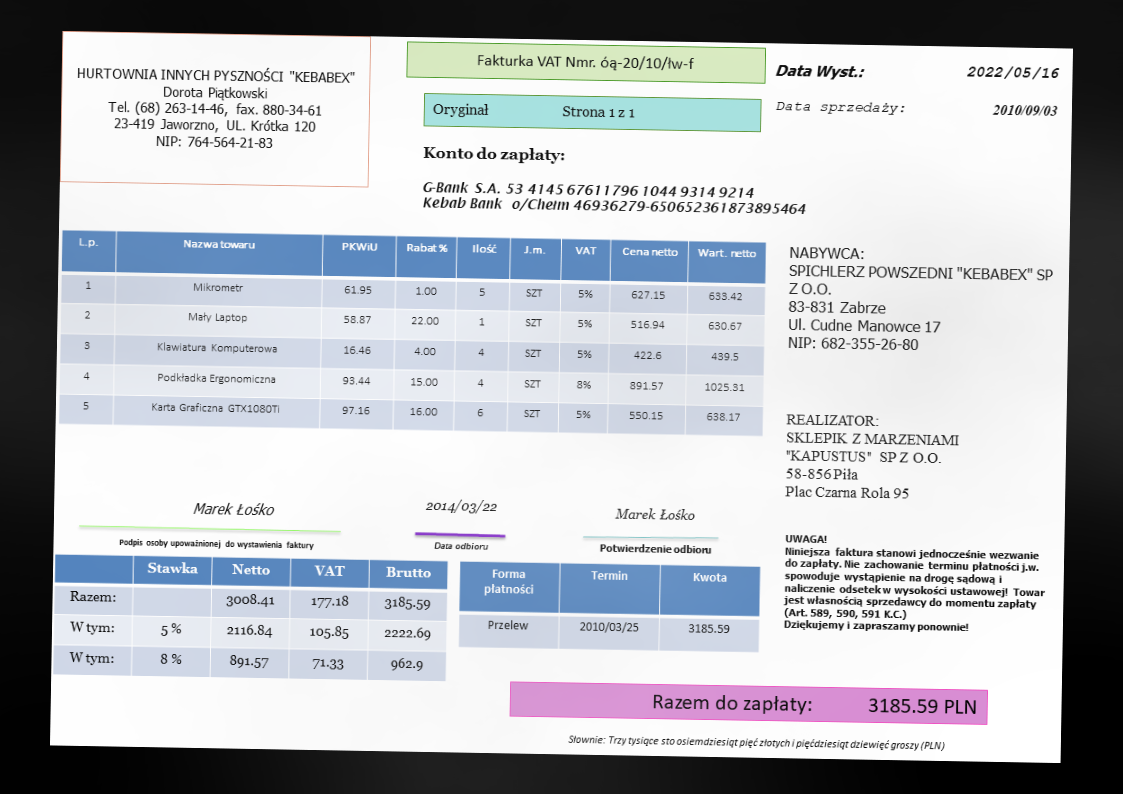Table: (57, 229, 767, 437), (52, 553, 450, 683), (457, 560, 762, 653)
TextBox: (784, 244, 1056, 356), (780, 530, 1048, 637), (74, 64, 358, 155), (782, 410, 963, 503), (419, 178, 808, 219), (650, 690, 980, 720), (566, 731, 948, 755), (474, 50, 695, 73), (431, 100, 637, 121), (115, 534, 317, 553), (419, 142, 568, 167), (773, 98, 906, 116), (963, 62, 1060, 83), (773, 60, 868, 80), (597, 541, 715, 557), (192, 499, 277, 518), (422, 497, 501, 517), (613, 506, 697, 524), (990, 102, 1058, 118), (431, 538, 490, 553)
